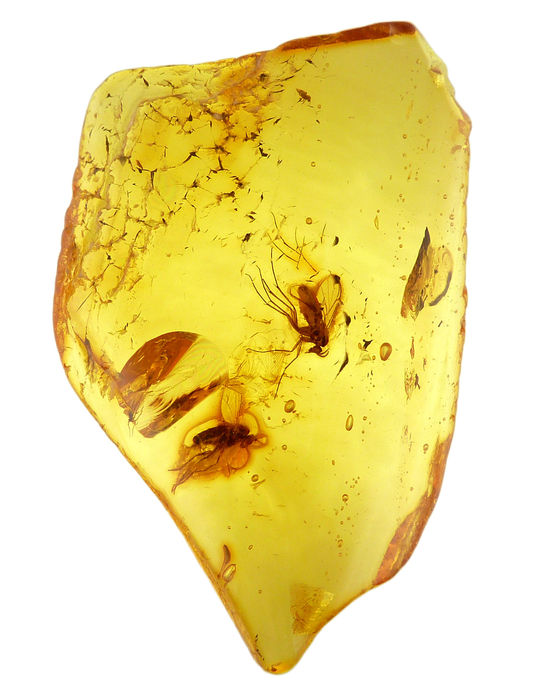phorid fly: (232, 226, 362, 380)
